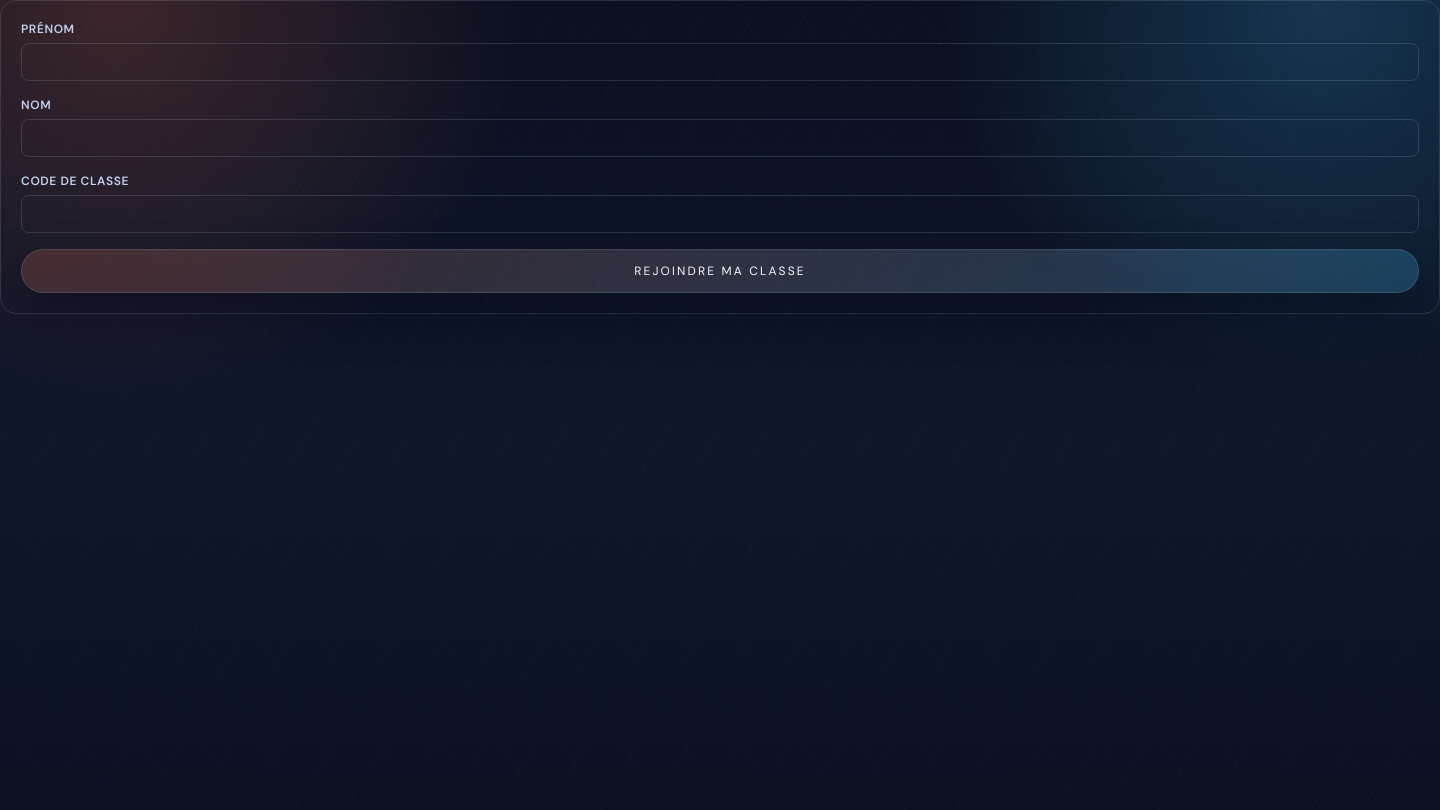
Test: JoinClassForm › affiche une erreur si le prénom est vide à la soumission
The width and height of the screenshot is (1440, 810).
Type "Dupont" into the field labelled "Nom".
click(720, 138); type("Dupont")  # box [21, 119, 1419, 157]
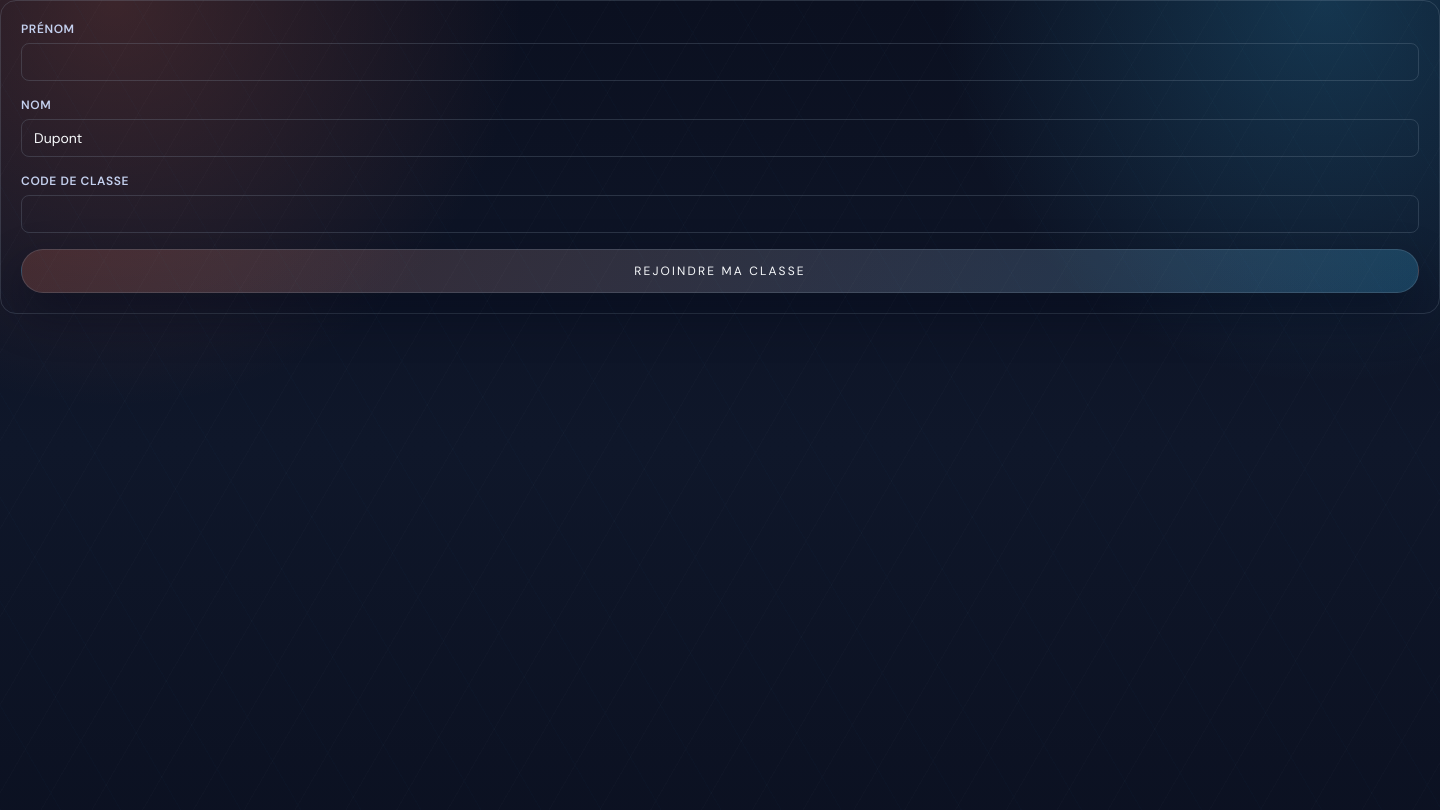
Type "ABCD12" into the field labelled "Code de classe".
click(720, 214); type("ABCD12")  # box [21, 195, 1419, 233]
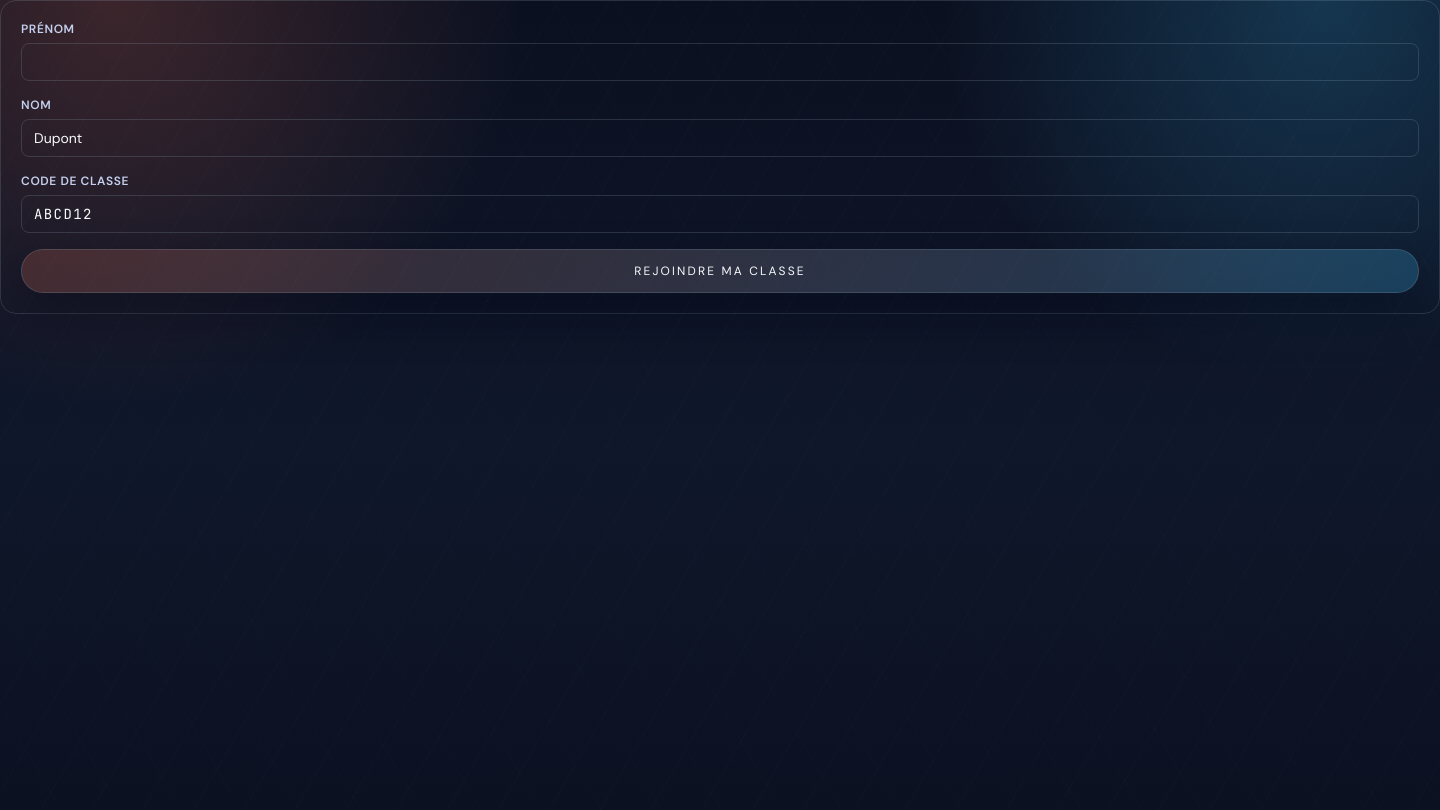
Click the button "Rejoindre ma classe".
click(720, 271)  # box [21, 249, 1419, 293]
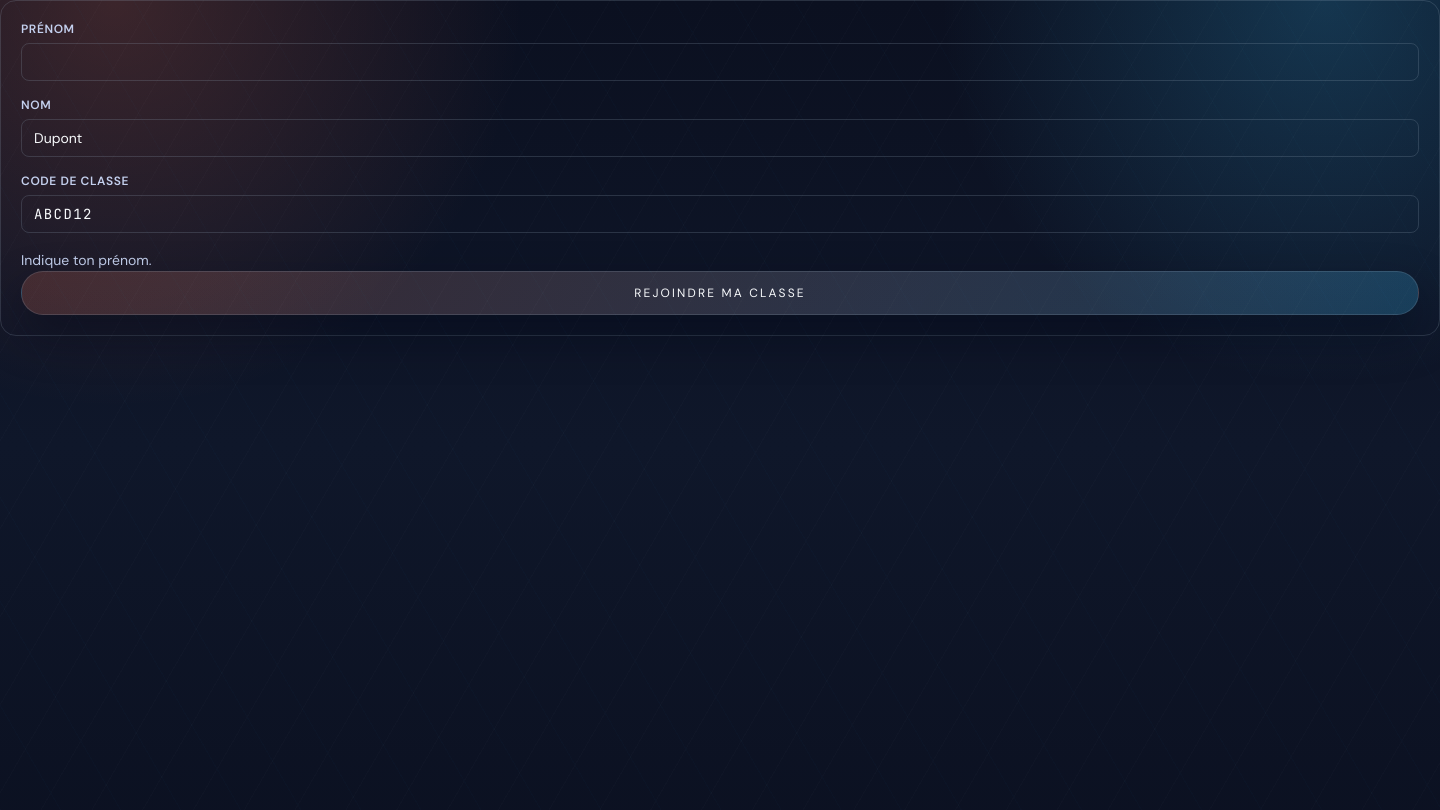
Result: the message with test id "join-form-error" shows "Indique ton prénom" at [21, 251, 152, 269]
